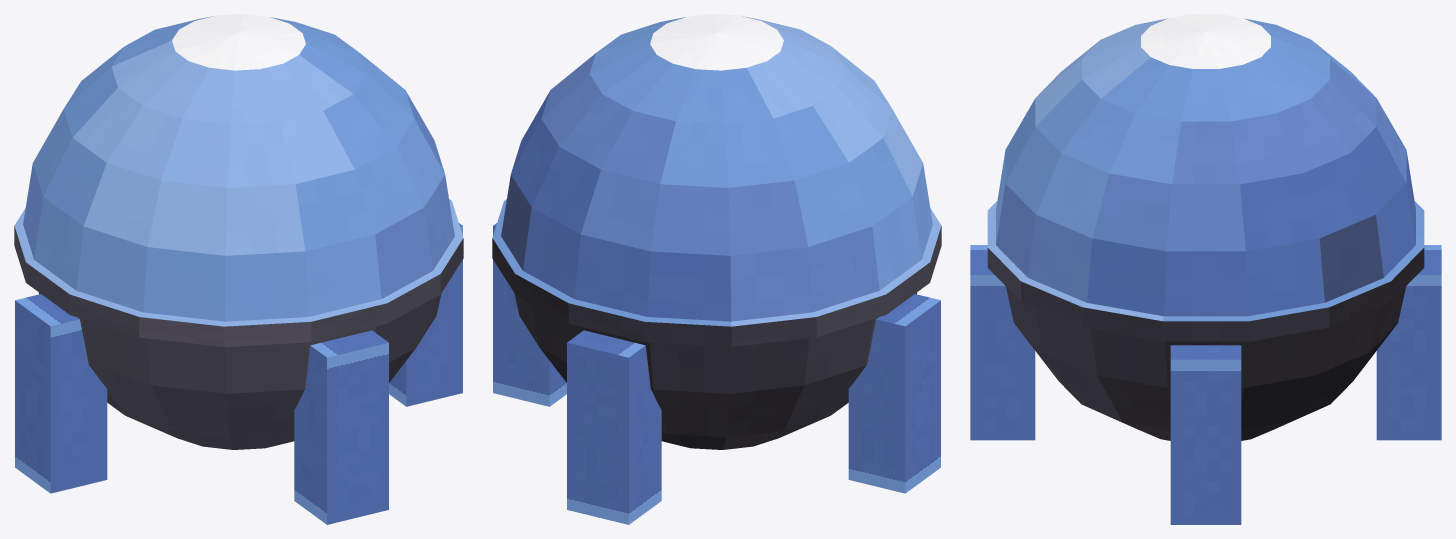
The model's file is shield.glb.
The picture shows the model from 3 angles, left to right: view 1: azimuth 30°, elevation 25°; view 2: azimuth 150°, elevation 25°; view 3: azimuth 270°, elevation 25°; orthographic projection.
Parts seen in each view (by area): view 1: shield_cap, shield_body; view 2: shield_cap, shield_body; view 3: shield_cap, shield_body.
Part boxes in pixels (bbox=[...]): shield_cap: bbox=[23, 14, 454, 321]; shield_body: bbox=[14, 199, 463, 524]; shield_cap: bbox=[501, 14, 932, 321]; shield_body: bbox=[492, 199, 941, 524]; shield_cap: bbox=[996, 14, 1415, 316]; shield_body: bbox=[970, 201, 1441, 524].
Size of the model in its own units: 0.8 by 0.737 by 0.8.
1 material, 1 textured.
